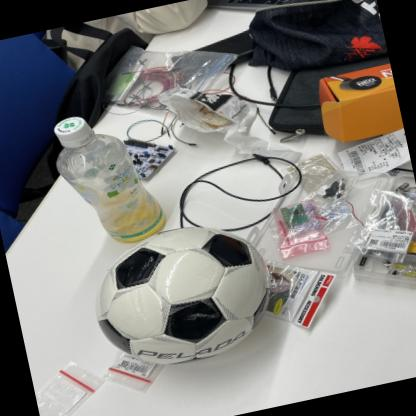ball: (83, 212, 284, 378)
